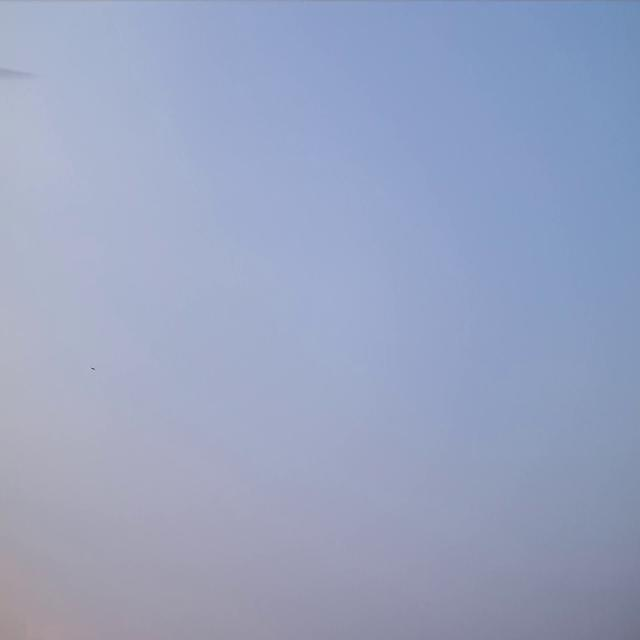UAV: (90, 367, 96, 370)
